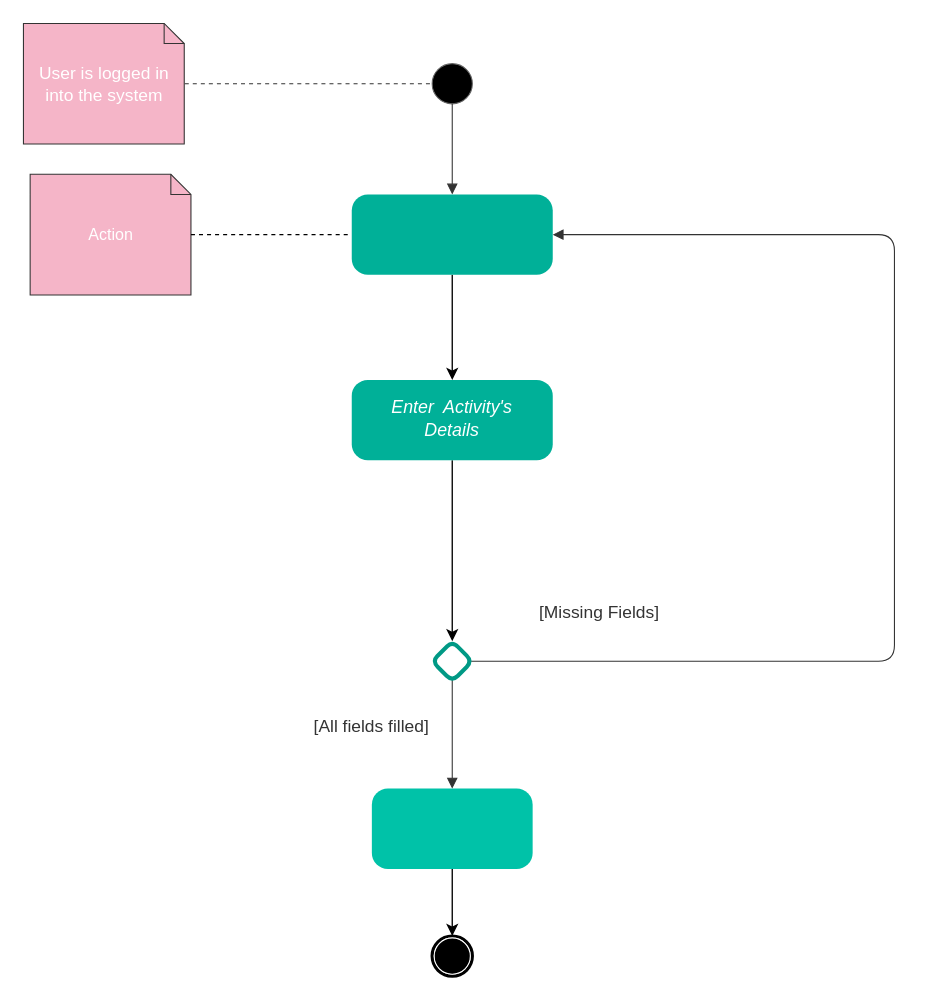
The diagram is 929 pixels wide and 1000 high, and some of its shapes have lost their labels. The shapes that lost their labels are listed below. From the top down, each one's centre as x and y in pixels, then its label:
point 452,234: Create Activity
point 452,828: Creates New Activity
